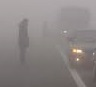person: (16, 17, 32, 64)
